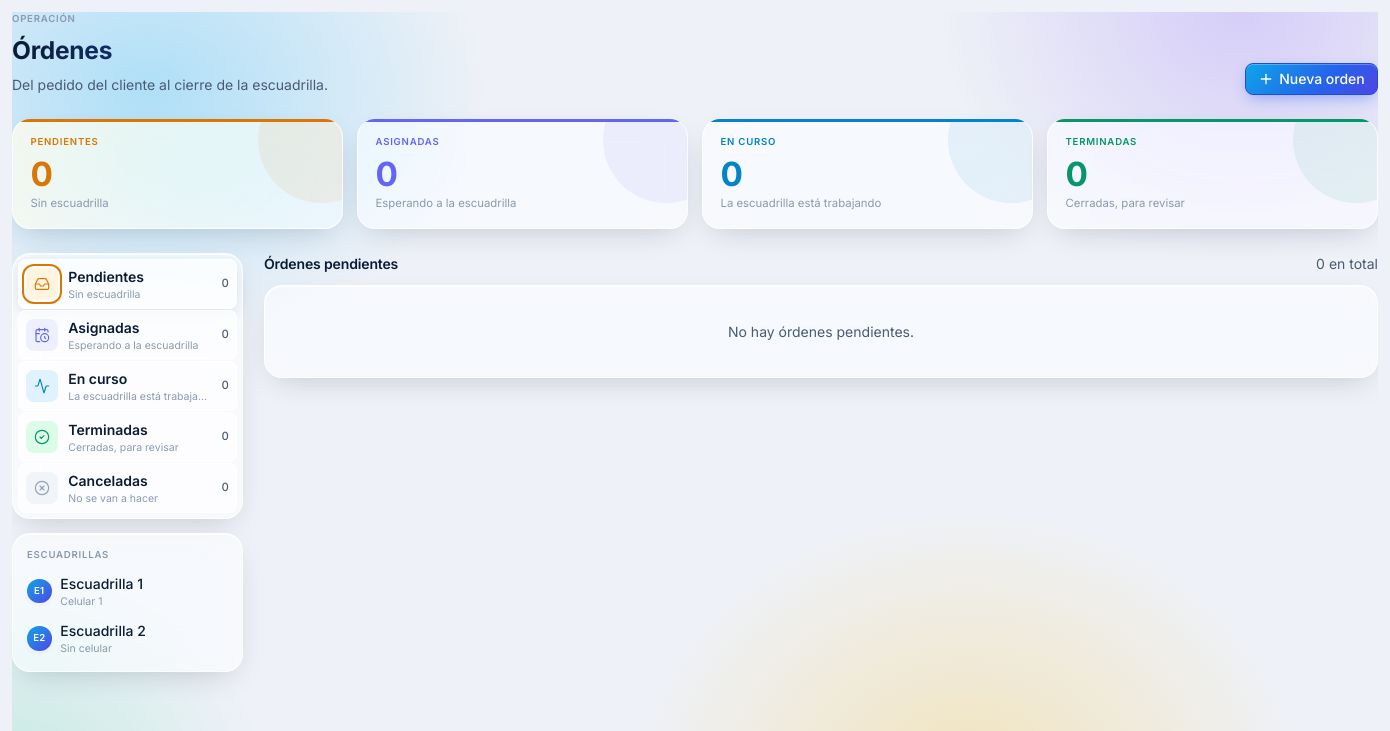
OrdersPage › avisa cuando hay más clientes que los que se muestran
Click the button "Nueva orden": (1311,79) [1245,63,1378,95]
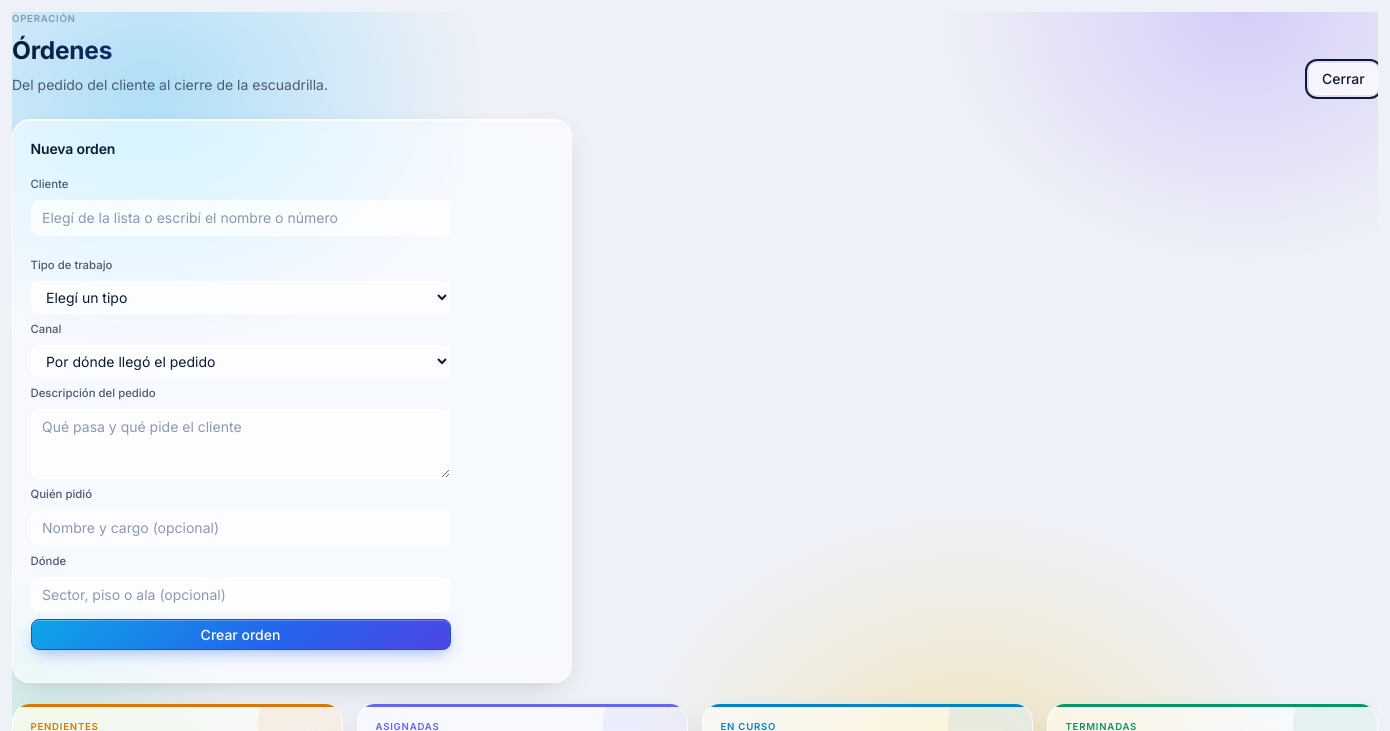
Click the dropdown labelled "Cliente": (240,218) [30,200,450,236]
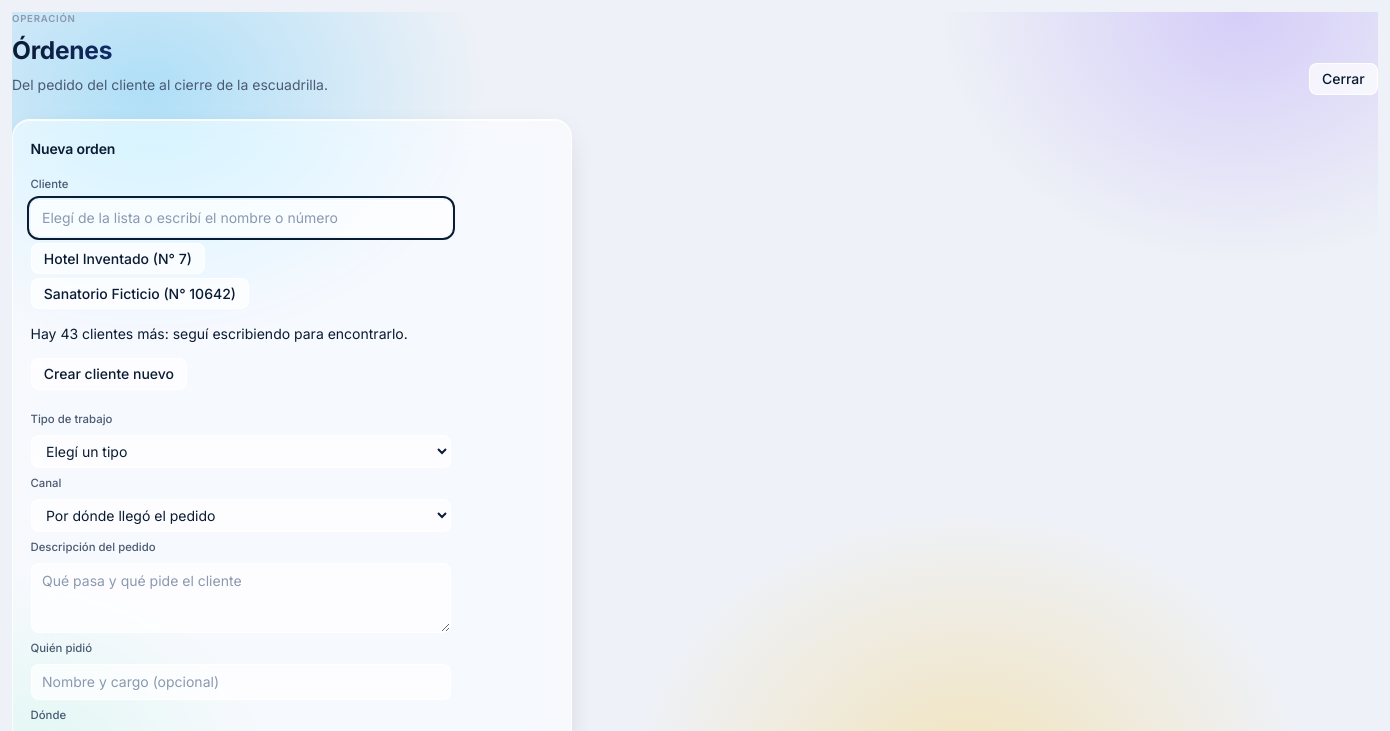
expect the text "Hay 43 clientes más: seguí escribiendo para encontrarlo." is shown: met, box [30,323,408,344]
